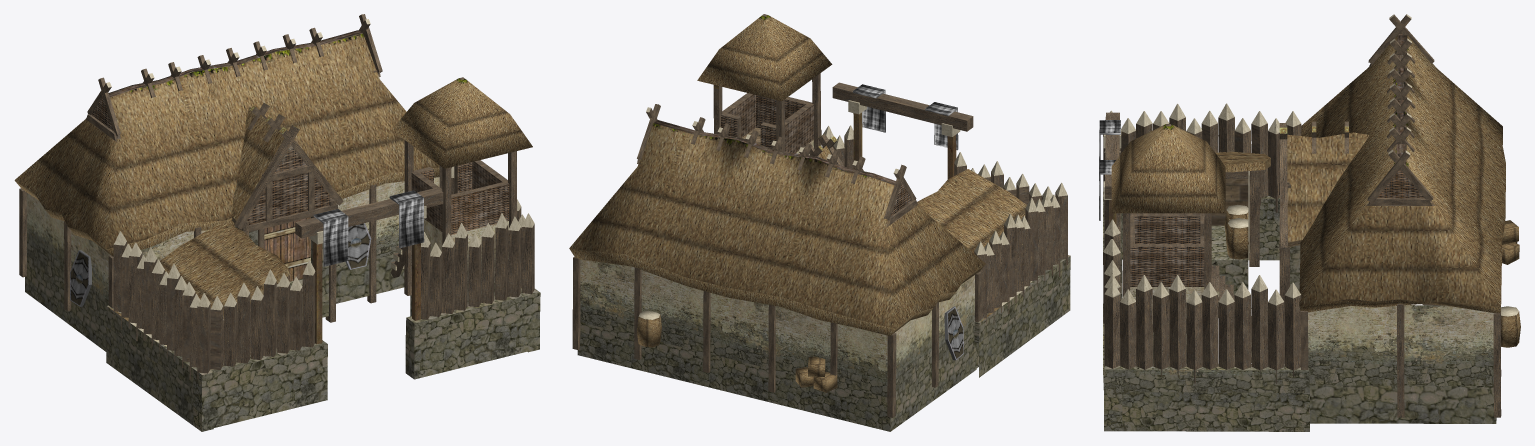
The model's file is barracks.dae.
The picture shows the model from 3 angles, left to right: view 1: azimuth 30°, elevation 25°; view 2: azimuth 150°, elevation 25°; view 3: azimuth 270°, elevation 25°; orthographic projection. The views are drawn at different scales.
Parts seen in each view (by area): view 1: barracks; view 2: barracks; view 3: barracks.
Part boxes in pixels (box(x1,y1,x2,y2)): barracks: box(14, 14, 540, 431); barracks: box(569, 14, 1070, 431); barracks: box(1099, 14, 1520, 431).
Size of the model in its own units: 23.23 by 22.61 by 16.92.
